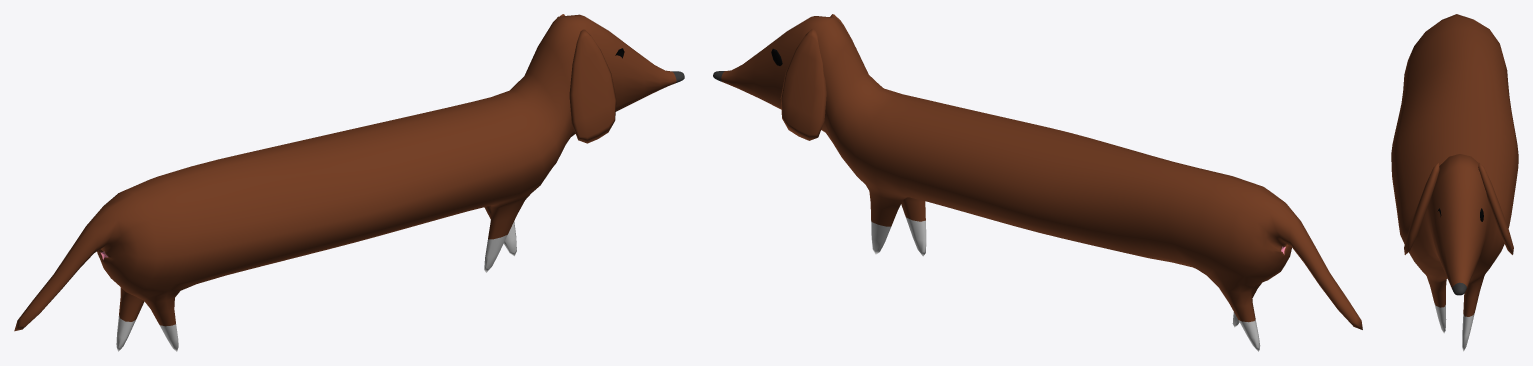
File: ween_medium_static.fbx
The picture shows the model from 3 angles, left to right: view 1: azimuth 30°, elevation 25°; view 2: azimuth 150°, elevation 25°; view 3: azimuth 270°, elevation 25°; orthographic projection. The views are drawn at different scales.
Visible parts, largest first — view 1: ween_medium_static; view 2: ween_medium_static; view 3: ween_medium_static.
Part boxes in pixels (left/top/right/bottom): ween_medium_static: left=14, top=14, right=684, bottom=351; ween_medium_static: left=713, top=14, right=1362, bottom=351; ween_medium_static: left=1391, top=14, right=1518, bottom=351.
Size of the model in its own units: 90.4 by 528 by 173.
